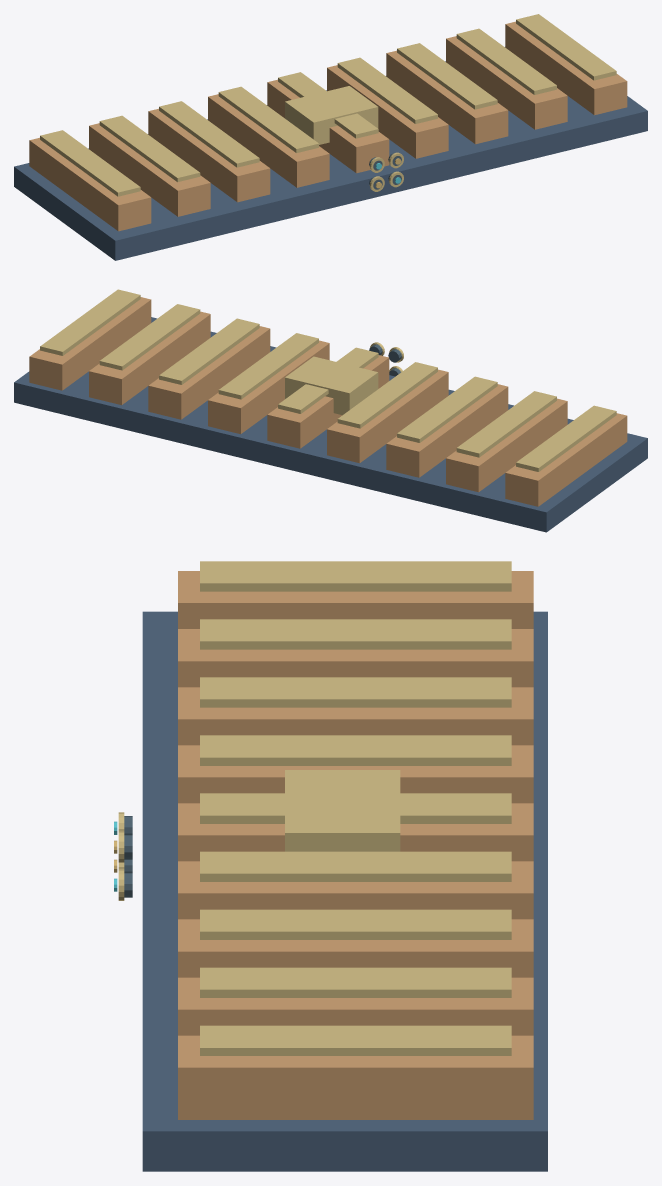
Rendered from 29_L83_RegulatedMainDCBus.glb.
The picture shows the model from 3 angles, top to bottom: view 1: azimuth 30°, elevation 25°; view 2: azimuth 150°, elevation 25°; view 3: azimuth 270°, elevation 25°; orthographic projection. The views are drawn at different scales.
Parts seen in each view (by area): view 1: RegulatedMainDCBus_Node_0018, RegulatedMainDCBus_Node_0000, RegulatedMainDCBus_Node_0004, RegulatedMainDCBus_Node_0012, RegulatedMainDCBus_Node_0016, RegulatedMainDCBus_Node_0014, RegulatedMainDCBus_Node_0002, RegulatedMainDCBus_Node_0006, RegulatedMainDCBus_Node_0010, RegulatedMainDCBus_Node_0019, RegulatedMainDCBus_Node_0008, RegulatedMainDCBus_Node_0003 (+8 smaller); view 2: RegulatedMainDCBus_Node_0018, RegulatedMainDCBus_Node_0000, RegulatedMainDCBus_Node_0016, RegulatedMainDCBus_Node_0004, RegulatedMainDCBus_Node_0012, RegulatedMainDCBus_Node_0014, RegulatedMainDCBus_Node_0006, RegulatedMainDCBus_Node_0002, RegulatedMainDCBus_Node_0010, RegulatedMainDCBus_Node_0019, RegulatedMainDCBus_Node_0008, RegulatedMainDCBus_Node_0015 (+8 smaller); view 3: RegulatedMainDCBus_Node_0018, RegulatedMainDCBus_Node_0016, RegulatedMainDCBus_Node_0002, RegulatedMainDCBus_Node_0004, RegulatedMainDCBus_Node_0000, RegulatedMainDCBus_Node_0012, RegulatedMainDCBus_Node_0010, RegulatedMainDCBus_Node_0014, RegulatedMainDCBus_Node_0001, RegulatedMainDCBus_Node_0003, RegulatedMainDCBus_Node_0005, RegulatedMainDCBus_Node_0007 (+8 smaller).
Part boxes in pixels (x1,y1,x2,y2): RegulatedMainDCBus_Node_0018: (14,61,647,260); RegulatedMainDCBus_Node_0000: (29,137,151,231); RegulatedMainDCBus_Node_0004: (148,108,270,202); RegulatedMainDCBus_Node_0012: (386,50,508,144); RegulatedMainDCBus_Node_0016: (505,21,627,115); RegulatedMainDCBus_Node_0014: (446,36,567,129); RegulatedMainDCBus_Node_0002: (89,123,210,216); RegulatedMainDCBus_Node_0006: (208,94,329,187); RegulatedMainDCBus_Node_0010: (327,65,448,158); RegulatedMainDCBus_Node_0019: (285,86,378,144); RegulatedMainDCBus_Node_0008: (267,79,389,173); RegulatedMainDCBus_Node_0003: (99,115,200,182); RegulatedMainDCBus_Node_0018: (14,317,647,532); RegulatedMainDCBus_Node_0000: (505,413,627,506); RegulatedMainDCBus_Node_0016: (29,297,151,390); RegulatedMainDCBus_Node_0004: (386,384,508,477); RegulatedMainDCBus_Node_0012: (148,326,270,419); RegulatedMainDCBus_Node_0014: (89,311,210,405); RegulatedMainDCBus_Node_0006: (327,369,448,463); RegulatedMainDCBus_Node_0002: (446,398,567,492); RegulatedMainDCBus_Node_0010: (208,340,329,434); RegulatedMainDCBus_Node_0019: (285,356,378,415); RegulatedMainDCBus_Node_0008: (267,355,389,448); RegulatedMainDCBus_Node_0015: (99,304,200,370); RegulatedMainDCBus_Node_0018: (142,611,547,1171); RegulatedMainDCBus_Node_0016: (178,1035,533,1119); RegulatedMainDCBus_Node_0002: (178,629,533,687); RegulatedMainDCBus_Node_0004: (178,687,533,745); RegulatedMainDCBus_Node_0000: (178,571,533,628); RegulatedMainDCBus_Node_0012: (178,919,533,977); RegulatedMainDCBus_Node_0010: (178,861,533,919); RegulatedMainDCBus_Node_0014: (178,977,533,1035); RegulatedMainDCBus_Node_0001: (200,561,511,591); RegulatedMainDCBus_Node_0003: (200,619,511,649); RegulatedMainDCBus_Node_0005: (200,677,511,707); RegulatedMainDCBus_Node_0007: (200,735,511,765).
Bounding box in the file's own units: 4.7 × 0.465 × 1.66.
